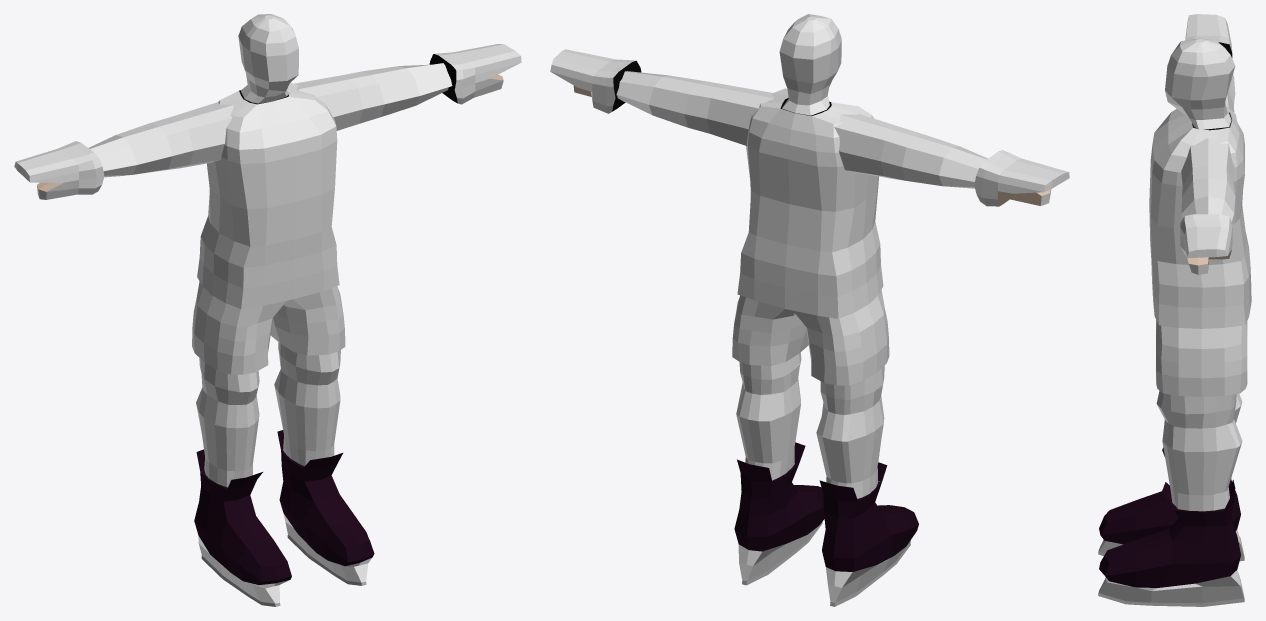
Rendered from second skater 3.glb.
3 renders of one model, left to right at view 1: azimuth 30°, elevation 25°; view 2: azimuth 150°, elevation 25°; view 3: azimuth 270°, elevation 25°, orthographic. The views are drawn at different scales.
Visible parts, largest first — view 1: Torso, Skates, Legs, Arms, Pants, Gloves, Head; view 2: Torso, Skates, Arms, Legs, Pants, Gloves, Head; view 3: Skates, Torso, Legs, Pants, Head, Arms, Gloves.
Boxes of the visible parts, box(x1,y1,x2,y2) form: Torso: box(197, 82, 339, 308); Skates: box(194, 430, 374, 606); Legs: box(196, 342, 340, 487); Arms: box(89, 63, 452, 177); Pants: box(192, 281, 345, 374); Gloves: box(14, 44, 521, 199); Head: box(238, 14, 298, 103); Torso: box(737, 88, 883, 318); Skates: box(734, 442, 918, 606); Arms: box(616, 71, 987, 188); Legs: box(736, 352, 884, 498); Pants: box(732, 290, 889, 385); Gloves: box(550, 49, 1069, 206); Head: box(779, 14, 841, 115); Skates: box(1098, 447, 1244, 606); Torso: box(1149, 106, 1251, 328); Legs: box(1156, 390, 1242, 511); Pants: box(1156, 320, 1247, 396); Head: box(1165, 38, 1235, 129); Arms: box(1181, 74, 1235, 221); Gloves: box(1180, 14, 1232, 274).
Size of the model in its own units: 2.32 by 2.49 by 0.6344.
